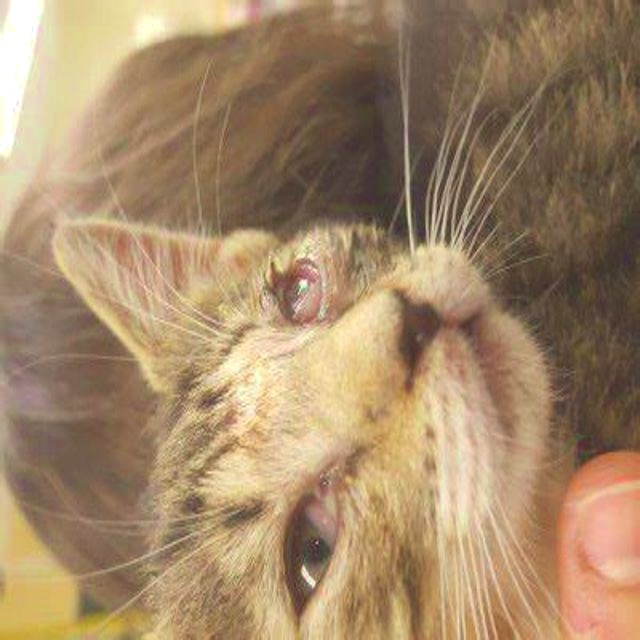eye_infection: (281, 478, 346, 616), (269, 249, 336, 332)
